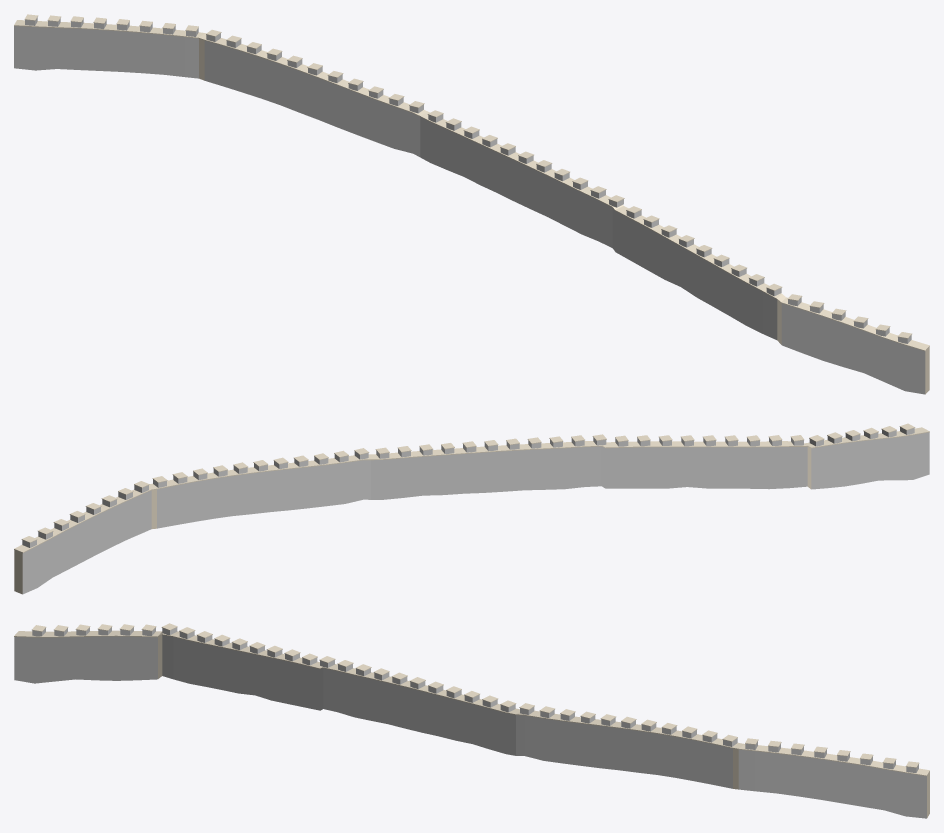
The model's file is SM_BM_BC_Mura_3.glb.
3 renders of one model, top to bottom at view 1: azimuth 90°, elevation 25°; view 2: azimuth 150°, elevation 25°; view 3: azimuth 270°, elevation 25°, orthographic. The views are drawn at different scales.
Visible parts, largest first — view 1: SM_BM_BC_Mura_3; view 2: SM_BM_BC_Mura_3; view 3: SM_BM_BC_Mura_3.
Boxes of the visible parts, x1=… form: SM_BM_BC_Mura_3: x1=14, y1=14, x2=929, y2=394; SM_BM_BC_Mura_3: x1=14, y1=423, x2=929, y2=594; SM_BM_BC_Mura_3: x1=14, y1=623, x2=929, y2=818.
Size of the model in its own units: 75.97 by 22.41 by 124.
